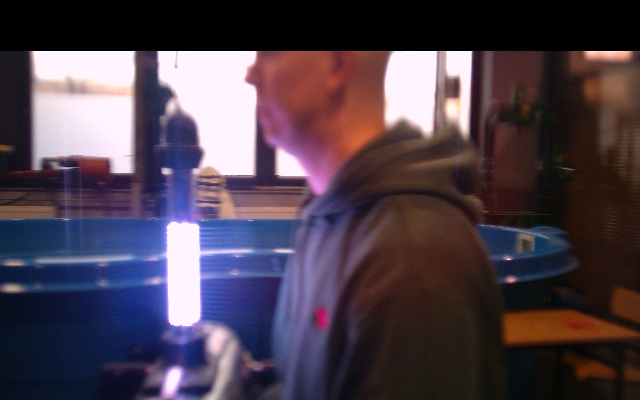white: (166, 221, 201, 325)
